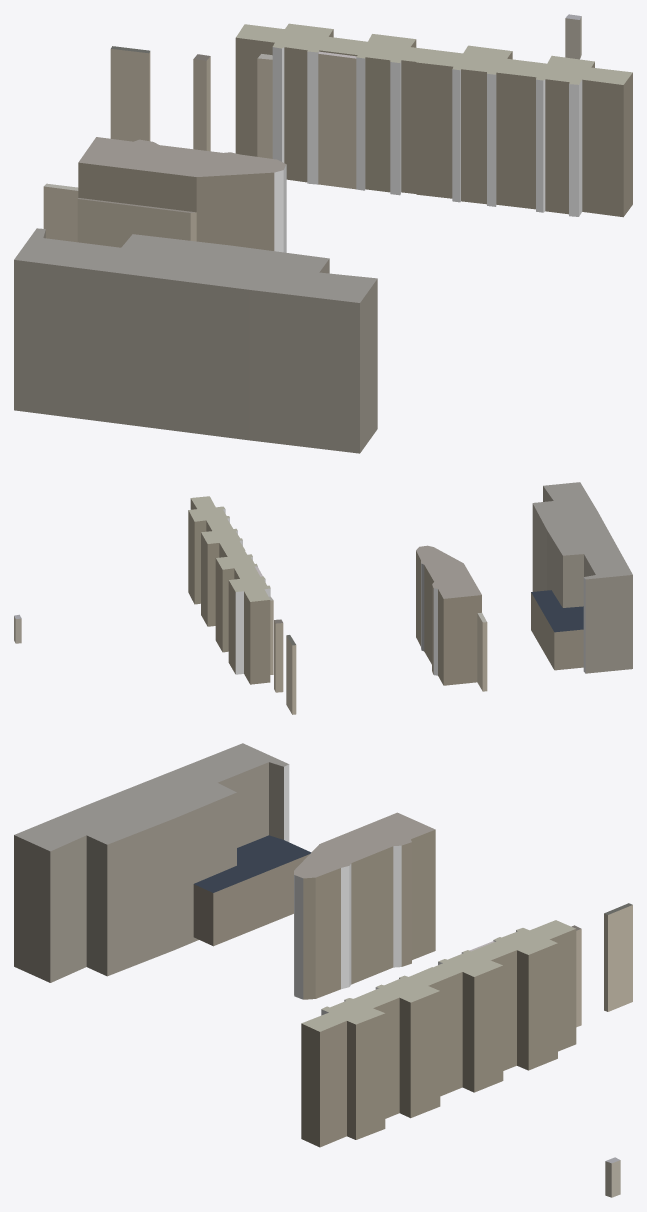
The picture shows the model from 3 angles, top to bottom: view 1: azimuth 30°, elevation 25°; view 2: azimuth 150°, elevation 25°; view 3: azimuth 270°, elevation 25°; orthographic projection. The views are drawn at different scales.
Parts seen in each view (by area): view 1: tuile; view 2: tuile; view 3: tuile.
Part boxes in pixels (box(x1,y1,x2,y2)): tuile: box(14, 14, 632, 453); tuile: box(14, 482, 632, 714); tuile: box(14, 743, 632, 1197).
Size of the model in its own units: 190 by 35.04 by 149.
